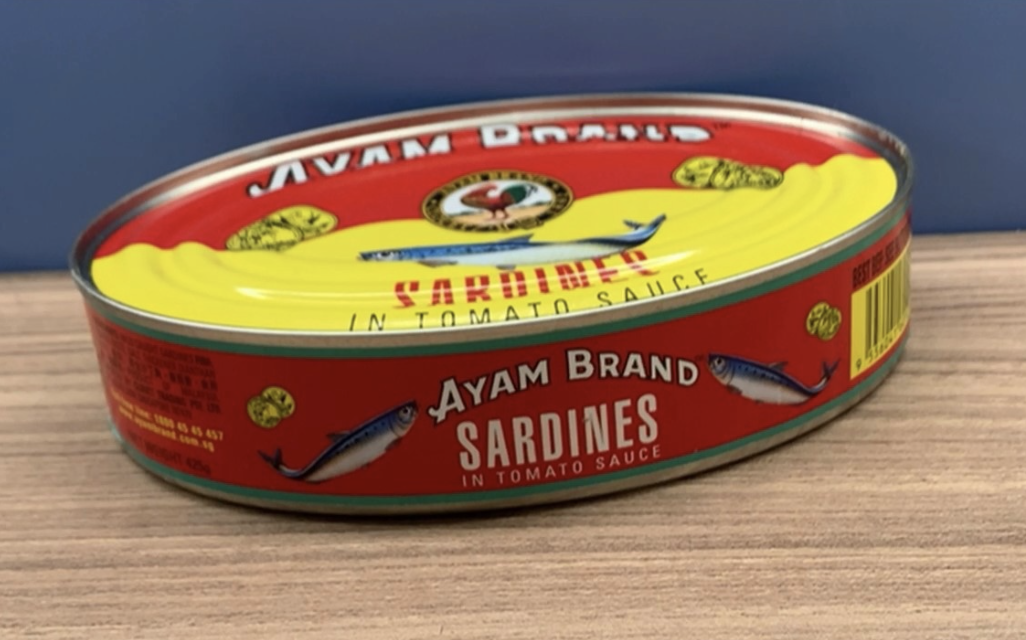sardines_450g: (192, 120, 796, 478)
